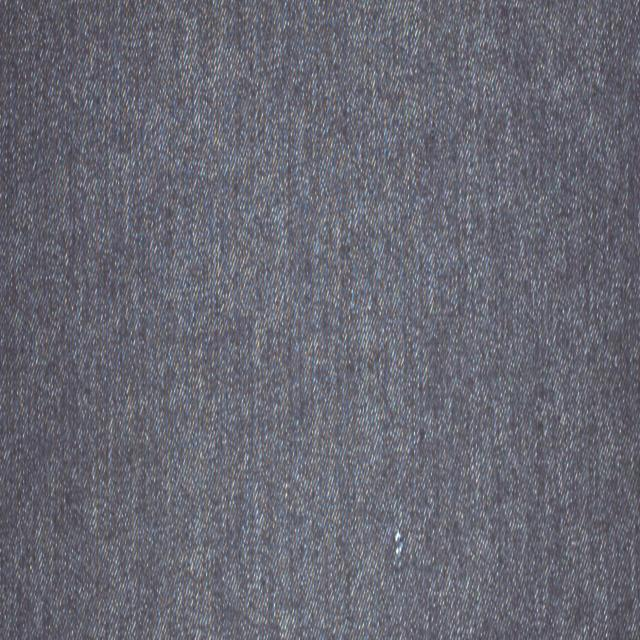Knot: (394, 530, 406, 564)
